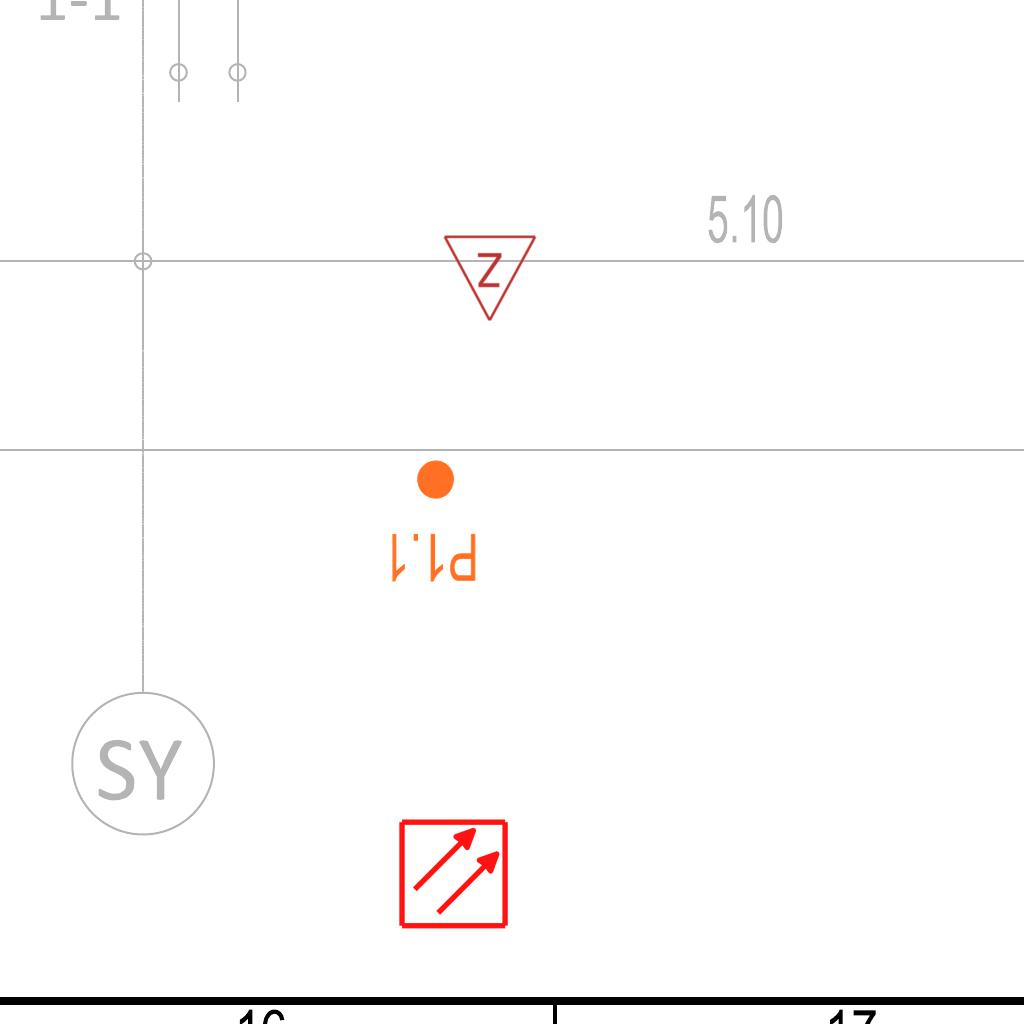Downlight_LED_Einbauleuchten_Flur: (386, 457, 479, 585)
RMO_Rauchmelder_optischer: (397, 817, 510, 930)
Zimmersignalleuchte: (442, 228, 540, 328)
